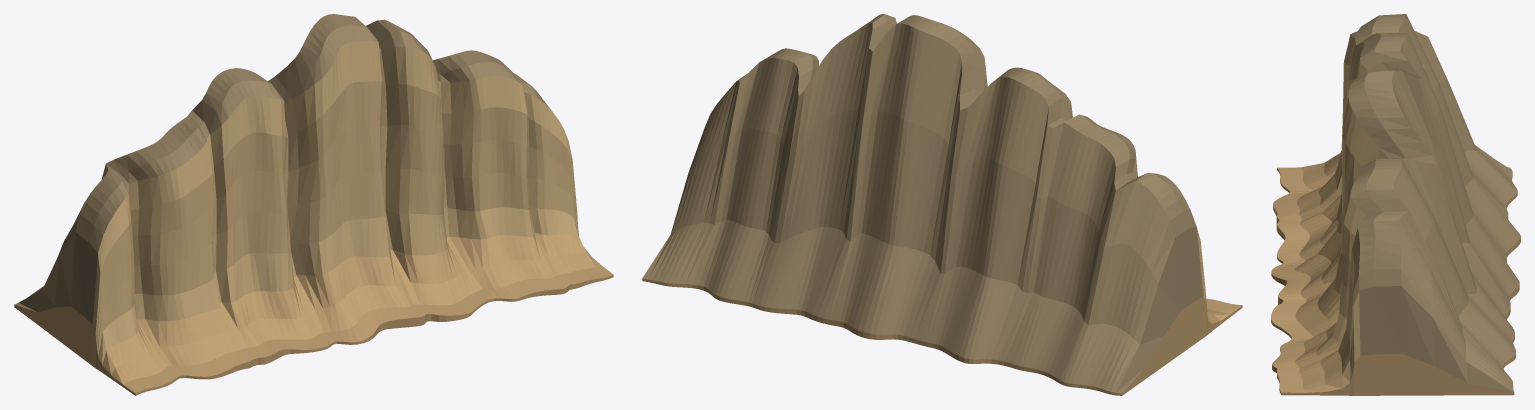
Rendered from loess-bluff.glb.
3 views of the same model, side by side, from view 1: azimuth 30°, elevation 25°; view 2: azimuth 150°, elevation 25°; view 3: azimuth 270°, elevation 25° (orthographic). The views are drawn at different scales.
Parts seen in each view (by area): view 1: continuous_fine_silt_loess_bluff_with_unequal_vertical_joint; view 2: continuous_fine_silt_loess_bluff_with_unequal_vertical_joint; view 3: continuous_fine_silt_loess_bluff_with_unequal_vertical_joint.
Part boxes in pixels (<box>): continuous_fine_silt_loess_bluff_with_unequal_vertical_joint: <box>14,14,613,395</box>; continuous_fine_silt_loess_bluff_with_unequal_vertical_joint: <box>642,14,1242,395</box>; continuous_fine_silt_loess_bluff_with_unequal_vertical_joint: <box>1271,14,1520,395</box>.
Size of the model in its own units: 16.12 by 8.52 by 7.51.
